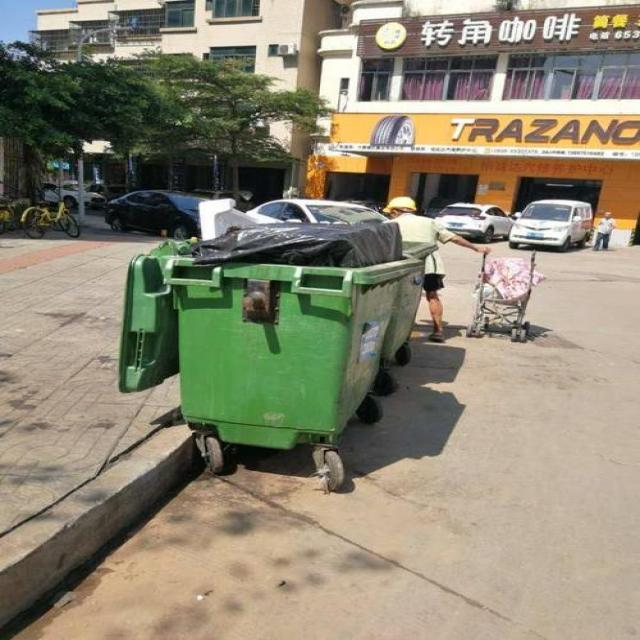overflow: (117, 198, 421, 447)
